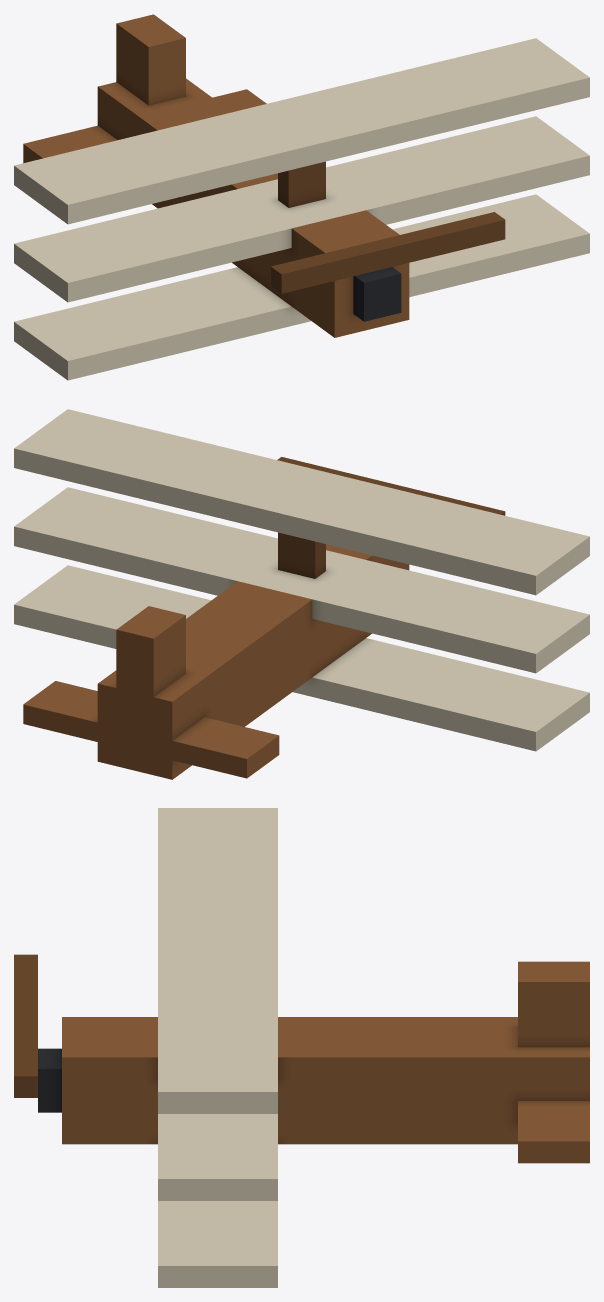
File: u_triplane.glb
3 views of the same model, one above another, from view 1: azimuth 30°, elevation 25°; view 2: azimuth 150°, elevation 25°; view 3: azimuth 270°, elevation 25° (orthographic). The views are drawn at different scales.
Parts seen in each view (by area): view 1: u_triplane_body; view 2: u_triplane_body; view 3: u_triplane_body.
Part boxes in pixels (x1,y1,x2,y2): u_triplane_body: (14, 14, 589, 380); u_triplane_body: (14, 409, 589, 779); u_triplane_body: (14, 808, 589, 1287).
Bounding box in the file's own units: 1.75 × 0.5625 × 1.5.
1 material, 1 textured.
